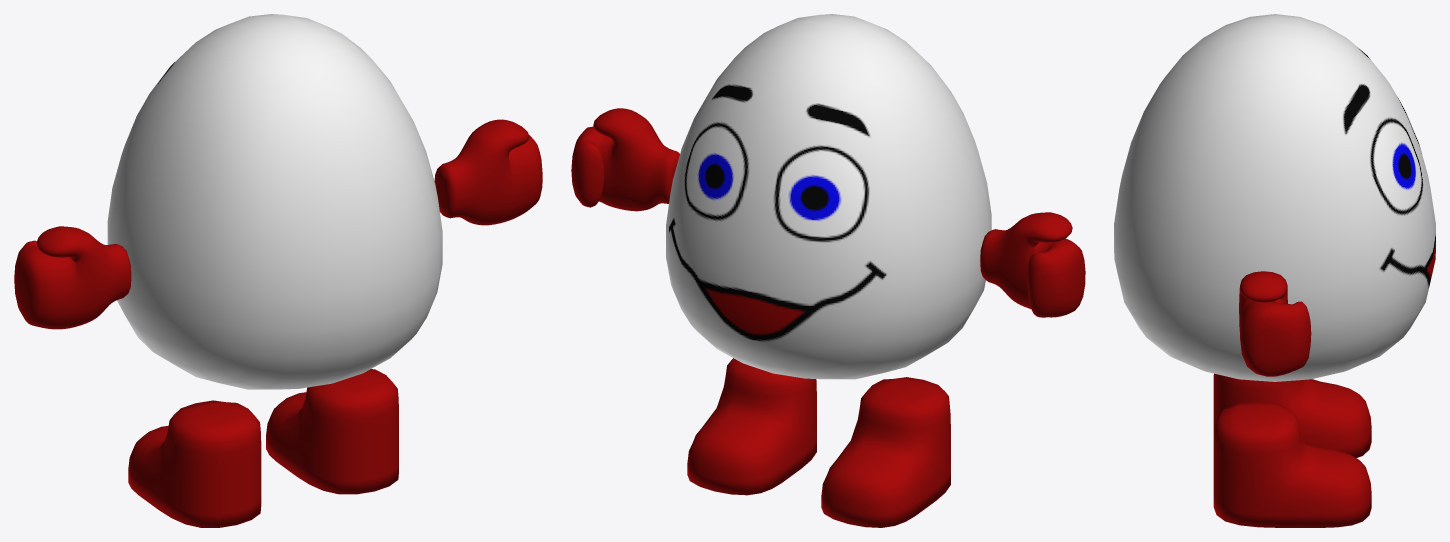
The model's file is dizzy.obj.
3 renders of one model, left to right at view 1: azimuth 30°, elevation 25°; view 2: azimuth 150°, elevation 25°; view 3: azimuth 270°, elevation 25°, orthographic. The views are drawn at different scales.
Visible parts, largest first — view 1: Dizzy, Left_Boot, Right_Boot, Left_Glove, Right_Glove; view 2: Dizzy, Left_Boot, Right_Boot, Right_Glove, Left_Glove; view 3: Dizzy, Right_Boot, Left_Boot, Right_Glove.
Boxes of the visible parts, <box> form: Dizzy: <box>107,14,442,389</box>; Left_Boot: <box>128,400,261,527</box>; Right_Boot: <box>266,369,398,494</box>; Left_Glove: <box>14,226,131,329</box>; Right_Glove: <box>434,119,542,225</box>; Dizzy: <box>666,14,991,379</box>; Left_Boot: <box>821,377,950,527</box>; Right_Boot: <box>687,358,816,495</box>; Right_Glove: <box>571,108,679,211</box>; Left_Glove: <box>980,212,1085,317</box>; Dizzy: <box>1114,14,1435,381</box>; Right_Boot: <box>1213,401,1371,527</box>; Left_Boot: <box>1213,373,1371,457</box>; Right_Glove: <box>1239,271,1311,376</box>.
Size of the model in its own units: 2.97 by 2.56 by 1.66.
Materials: 2 (1 with a texture image).
